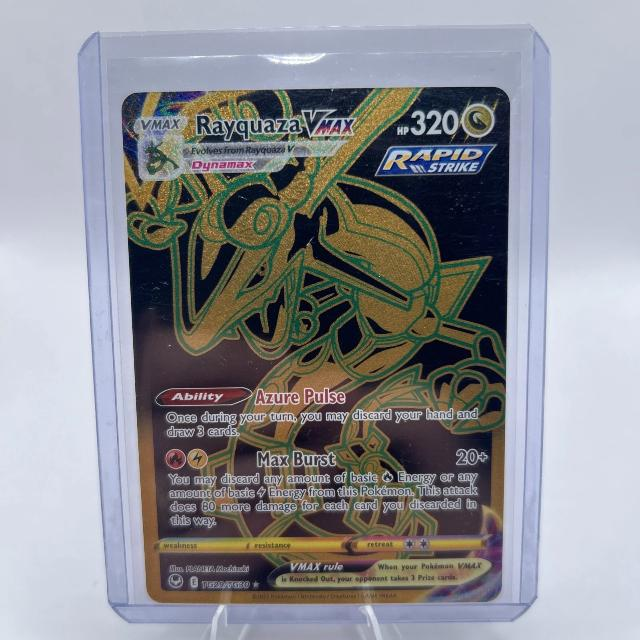Card: (117, 84, 511, 606)
Name: (191, 106, 359, 140)
